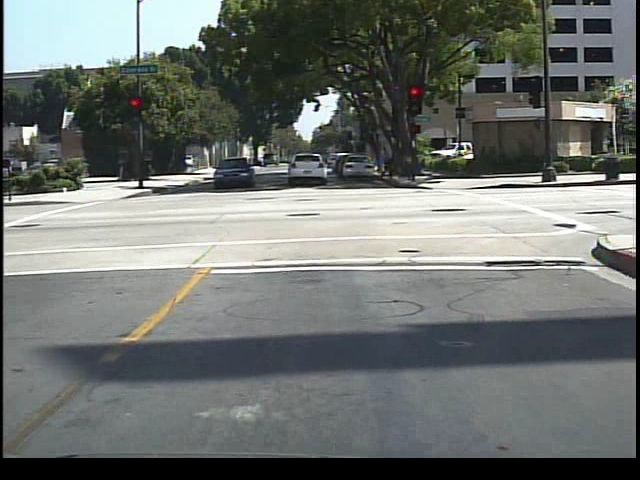person: (378, 143, 399, 185)
